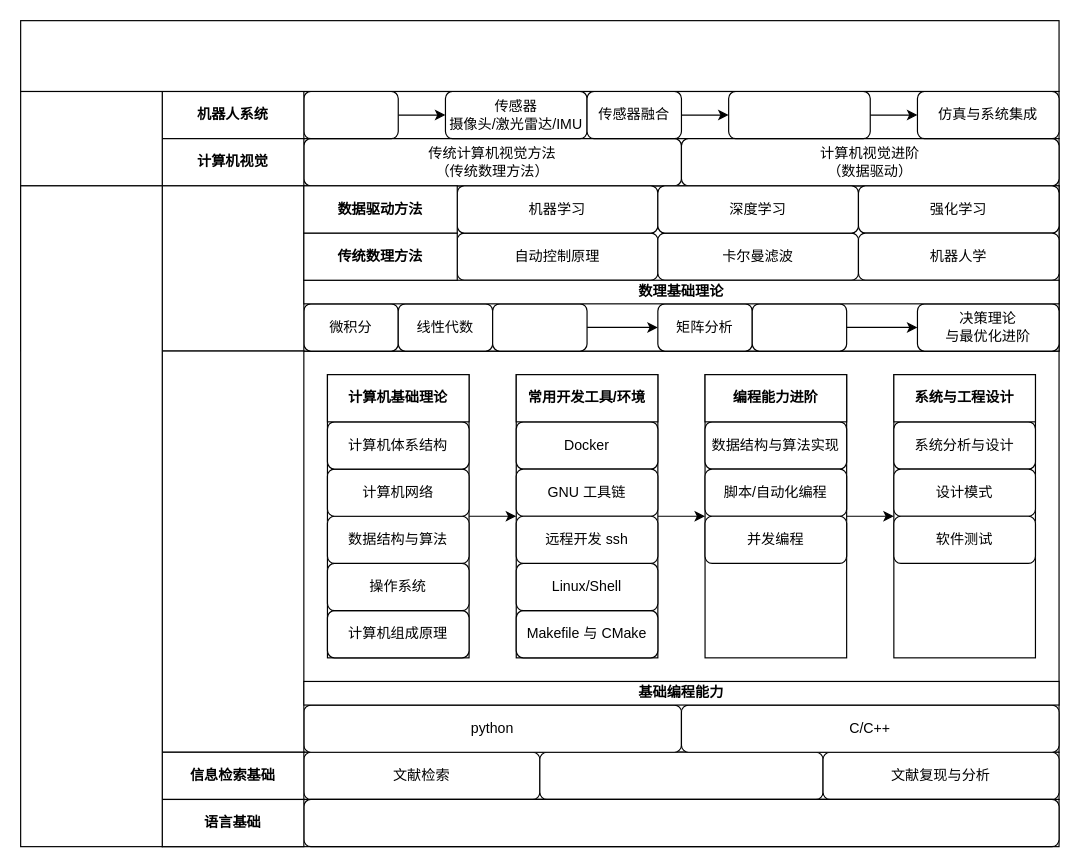
Some shapes in this 1080 by 867 pixel diagram are drawn without their labels. The centre of each missing label's shape, as x and y in pixels:
"ROS2 入门" goes at pixel 350 114.
"SLAM 定位与导航" goes at pixel 798 114.
"专业技能" goes at pixel 90 138.
"基础素质" goes at pixel 90 516.
"数理基础" goes at pixel 232 268.
"文献阅读" goes at pixel 681 775.
"概率论与梳理统计" goes at pixel 539 327.
"算法组知识体系架构" goes at pixel 539 55.
"编程基础" goes at pixel 232 551.
"英语能力" goes at pixel 681 822.
"运筹优化基础" goes at pixel 799 327.
